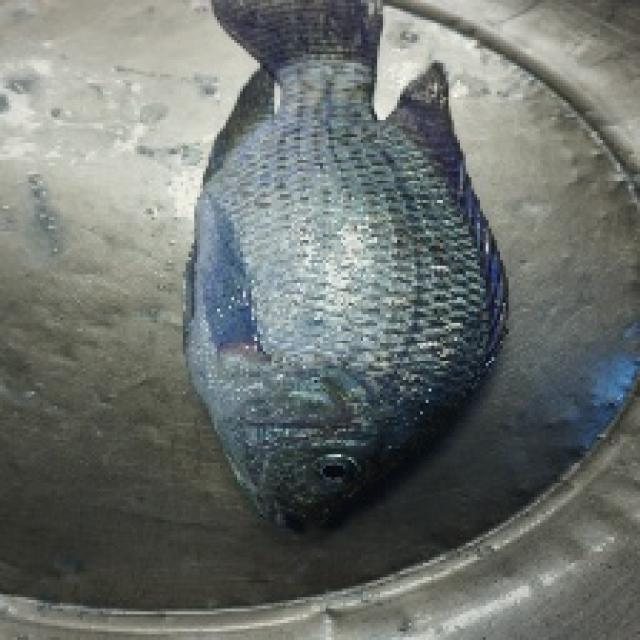Fresh: (166, 69, 513, 546)
